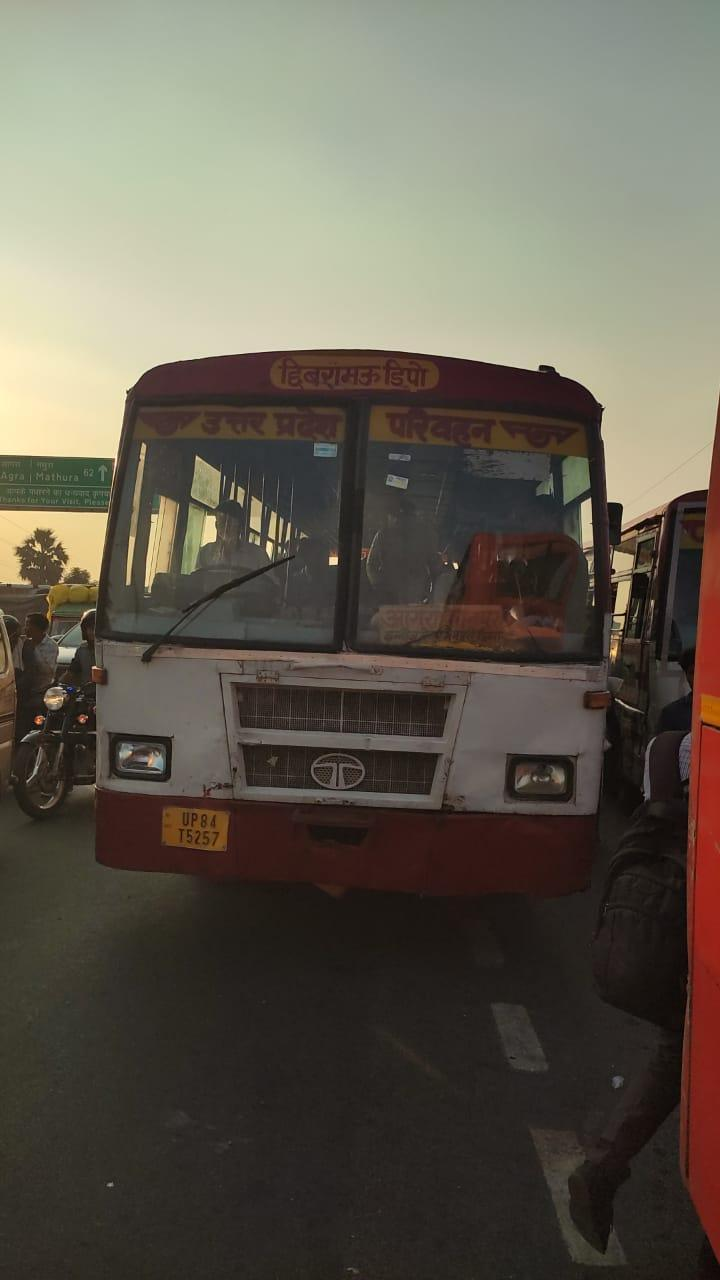Bus: (92, 350, 613, 907)
